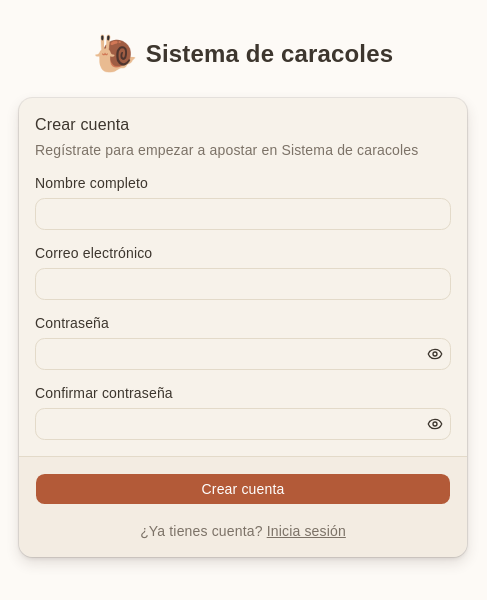
Test: RegisterPage › debe mostrar un error si el nombre está vacío
Type "usuario@test.com" into the field labelled "Correo electrónico" at x=243, y=284, box top-left (35, 268), bottom-right (451, 300)
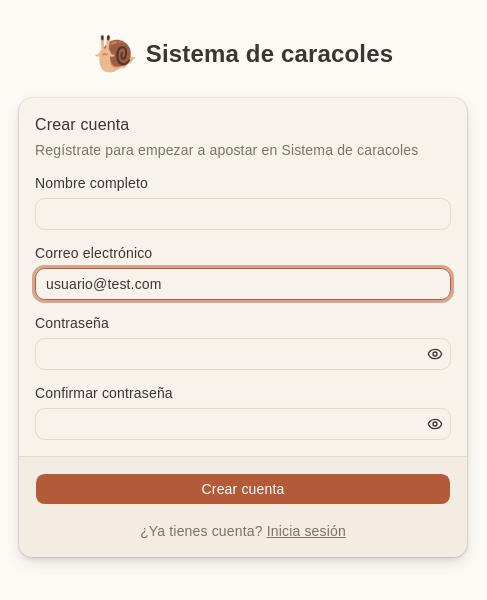
Type "password123" into the password field labelled "Contraseña" at x=243, y=354, box top-left (35, 338), bottom-right (451, 370)
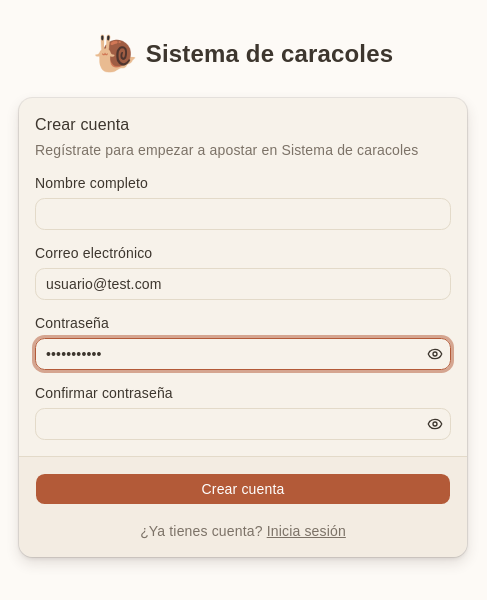
Type "password123" into the password field labelled "Confirmar contraseña" at x=243, y=424, box top-left (35, 408), bottom-right (451, 440)
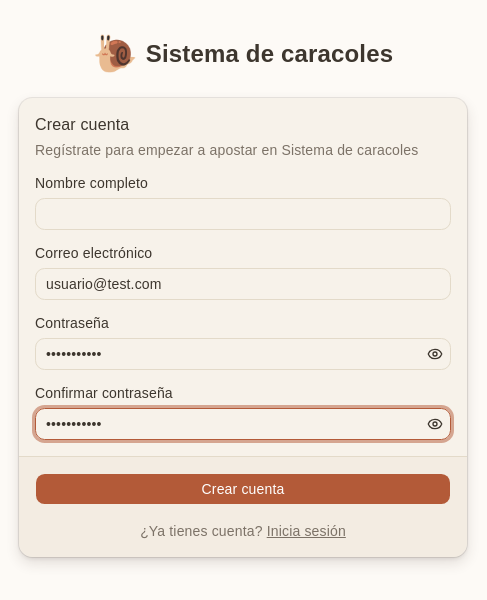
Click the button "Crear cuenta" at x=243, y=488, box top-left (35, 472), bottom-right (451, 504)
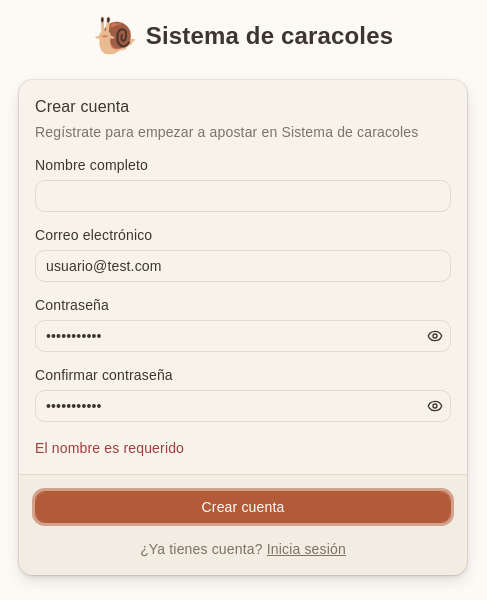
Expected: the text "El nombre es requerido" is shown, top-left (35, 440), bottom-right (184, 456)
